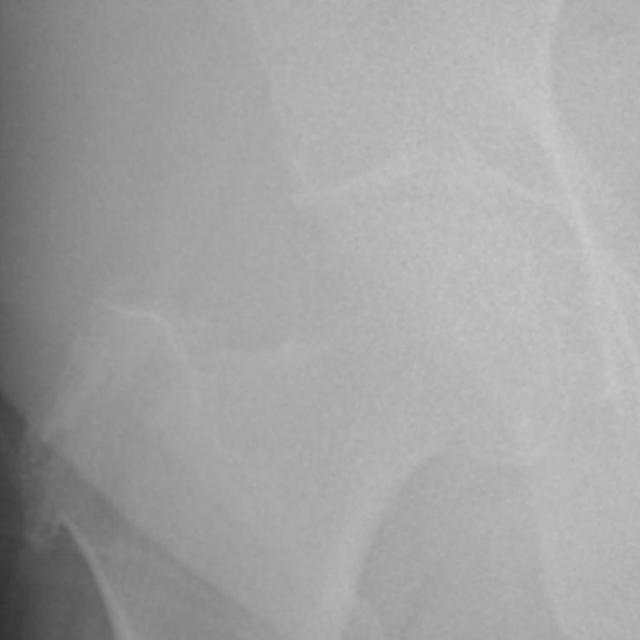Fitted_femural_head: (297, 182, 432, 297)
